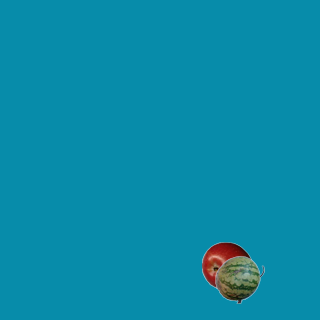Apple Braeburn: (201, 241, 251, 291)
Watermelon: (214, 254, 264, 304)
